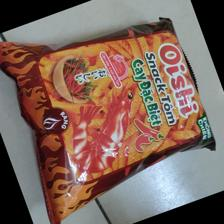Oishi_Cay: (1, 17, 219, 224)
